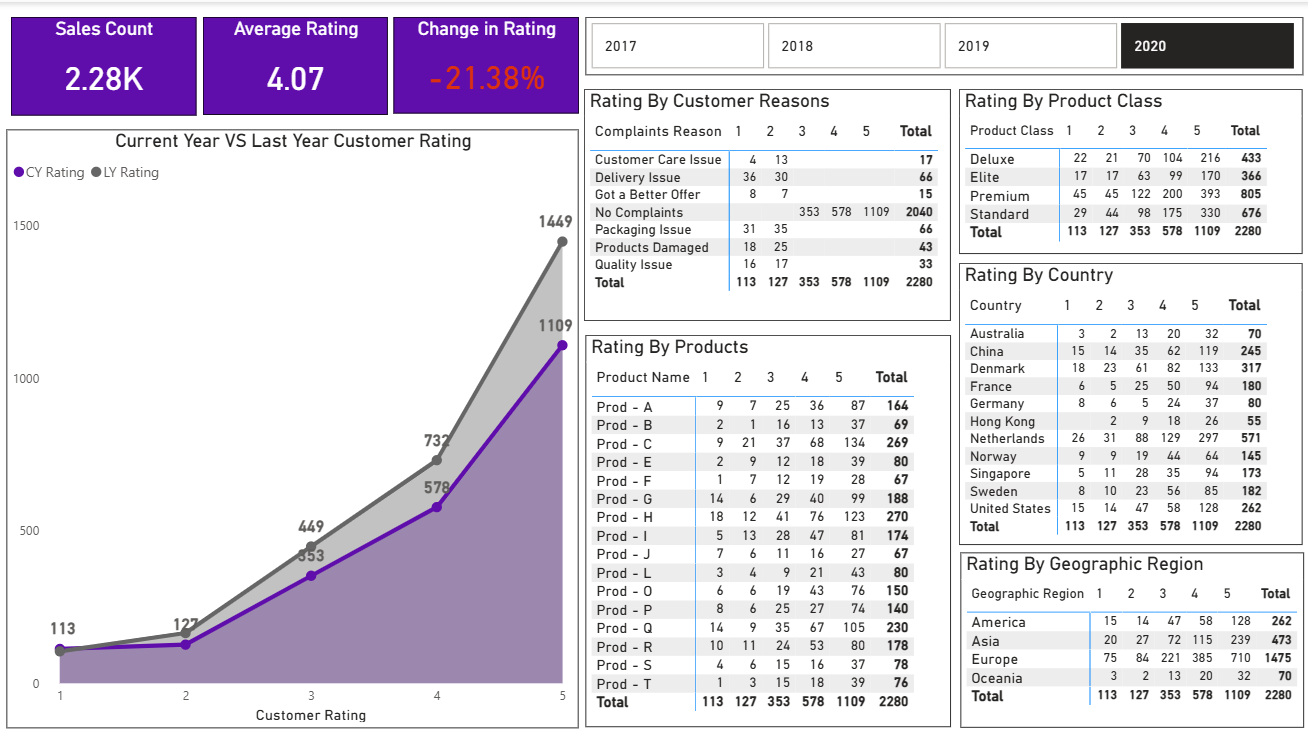

The page's visual inventory and layout, read from the dashboard file:
{"tool":"powerbi","page":{"name":"Customer Feedback","canvas":[1280,720],"ordinal":2},"visuals":[{"type":"card","title":"Average Rating","fields":{"Values":["Avg(Sales Data.Customer Rating)"]},"box":[201,15.1,180,95.4],"z":0},{"type":"advancedSlicerVisual","fields":{"Values":["Calendar.Year"]},"box":[573.9,14.6,699.1,56.9],"z":1000},{"type":"card","title":"Sales Count","fields":{"Values":["CountNonNull(Sales Data.Sales Id)"]},"box":[14.6,14.6,180.5,95.9],"z":2000},{"type":"card","title":"Change in Rating","fields":{"Values":["Sales Data.Change in Rating"]},"box":[386.9,14.6,180.5,94.3],"z":3000},{"type":"areaChart","title":"Current Year VS Last Year Customer Rating","fields":{"Category":["Sales Data.Customer Rating"],"Y":["CountNonNull(Sales Data.Customer Rating)","Sales Data.LY Rating"]},"box":[9.8,123.6,557.6,583.6],"z":4000},{"type":"pivotTable","title":"Rating By Customer Reasons","fields":{"Rows":["Sales Data.Complaints Reason"],"Columns":["Sales Data.Customer Rating"],"Values":["Sales Data.Count of Rating"]},"box":[572.3,84.5,357.7,226],"z":5000},{"type":"pivotTable","title":"Rating By Products","fields":{"Rows":["Sales Data.Product Name"],"Columns":["Sales Data.Customer Rating"],"Values":["Sales Data.Count of Rating"]},"box":[573.9,325.2,356,382.1],"z":6000},{"type":"pivotTable","title":"Rating By Product Class","fields":{"Rows":["Sales Data.Product Class"],"Columns":["Sales Data.Customer Rating"],"Values":["Sales Data.Count of Rating"]},"box":[938.1,84.5,334.9,160.9],"z":7000},{"type":"pivotTable","title":"Rating By Country","fields":{"Rows":["Sales Data.Country"],"Columns":["Sales Data.Customer Rating"],"Values":["Sales Data.Count of Rating"]},"box":[938.1,253.6,334.9,274.8],"z":8000},{"type":"pivotTable","title":"Rating By Geographic Region","fields":{"Columns":["Sales Data.Customer Rating"],"Values":["Sales Data.Count of Rating"],"Rows":["Sales Data.Geographic Region"]},"box":[939.7,536.5,334.9,170.7],"z":9000}]}

Visuals, with their boxes in screenshot pixels (x1, y1, x2, y2), scaled from the page's 1280x720 canvas onto the 1308x739 screenshot:
"Average Rating" card: [205,15,389,113]
advancedSlicerVisual - Calendar.Year: [586,15,1301,73]
"Sales Count" card: [15,15,199,113]
"Change in Rating" card: [395,15,580,112]
"Current Year VS Last Year Customer Rating" areaChart: [10,127,580,726]
"Rating By Customer Reasons" pivotTable: [585,87,950,319]
"Rating By Products" pivotTable: [586,334,950,726]
"Rating By Product Class" pivotTable: [959,87,1301,252]
"Rating By Country" pivotTable: [959,260,1301,542]
"Rating By Geographic Region" pivotTable: [960,551,1302,726]
